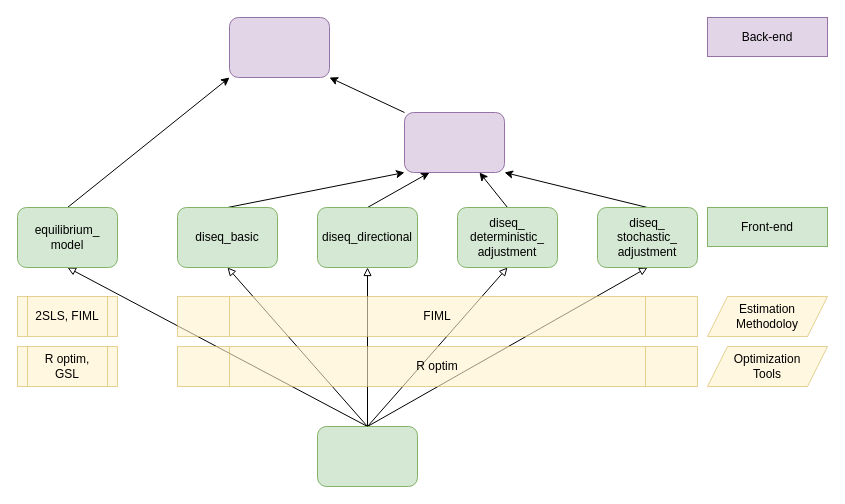
The diagram is 845 pixels wide and 504 high, and some of its shapes have lost their labels. The shapes that lost their labels are listed below. From the top down, each one's centre as x and y in pixels, then its label:
At point (279, 47): "market_model".
At point (454, 142): "disequilibrium_ model".
At point (367, 456): "market_fit".
